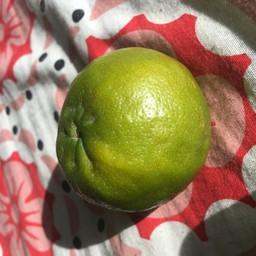Good_orange: (56, 44, 209, 214)
